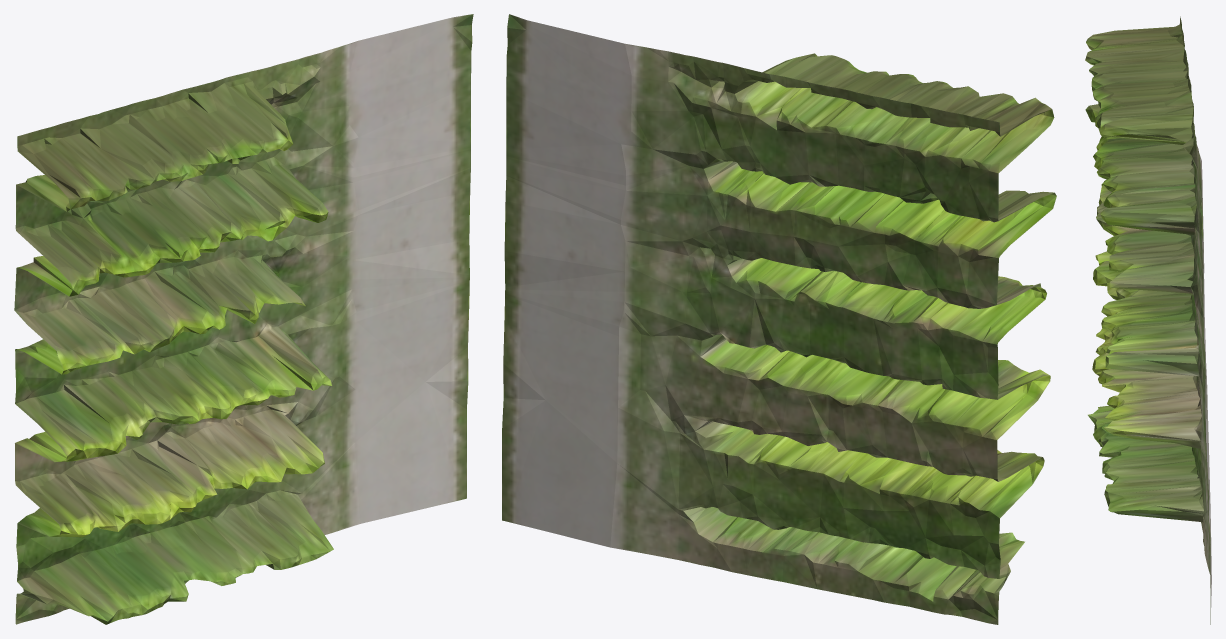
Rendered from map_160_80.obj.
The picture shows the model from 3 angles, left to right: view 1: azimuth 30°, elevation 25°; view 2: azimuth 150°, elevation 25°; view 3: azimuth 270°, elevation 25°; orthographic projection. The views are drawn at different scales.
Parts seen in each view (by area): view 1: grp1; view 2: grp1; view 3: grp1.
Part boxes in pixels (x1,y1,x2,y2): grp1: (14,14,473,624); grp1: (502,14,1056,624); grp1: (1085,16,1211,624).
Bounding box in the file's own units: 10 × 10 × 2.76.
1 material, 1 textured.
